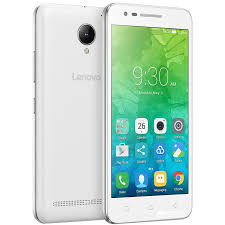lenovo: (101, 1, 194, 223), (30, 1, 104, 225)
